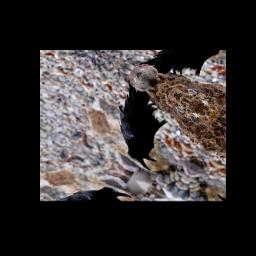Crow: (87, 77, 192, 172)
